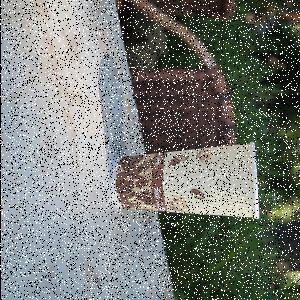Cup: (110, 143, 260, 221)
